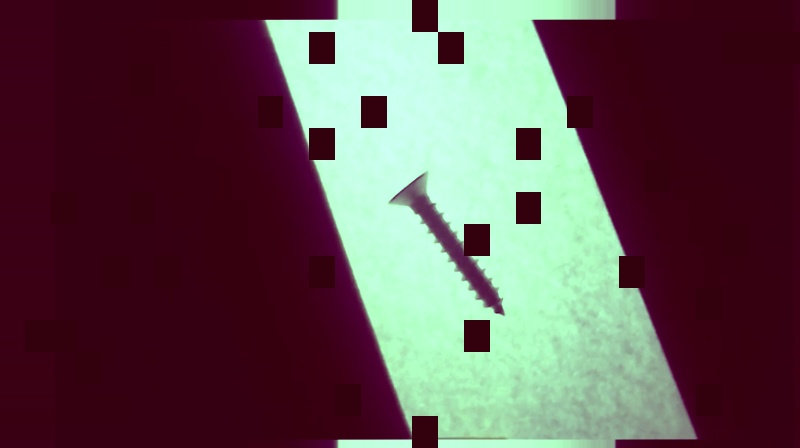S001: (383, 168, 508, 321)
